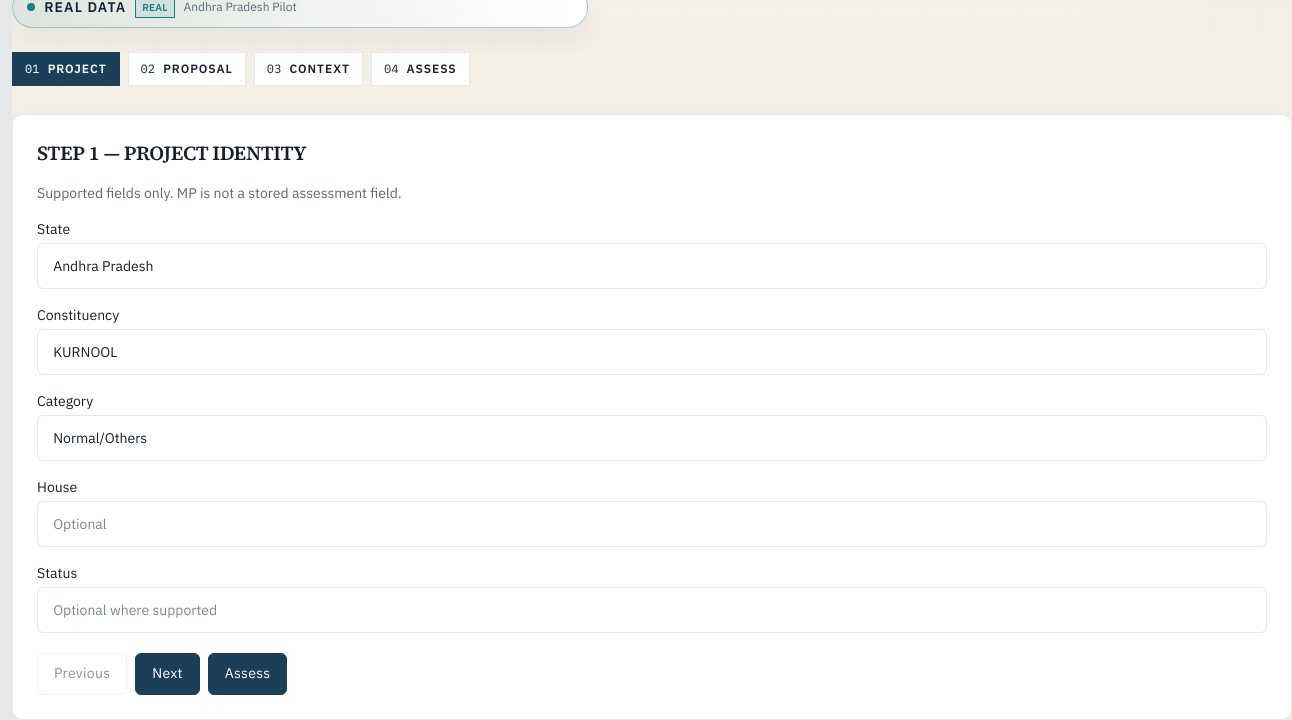
Test: Assess New Project page › submits the assessment form and shows ML plus frozen engine signals
This screenshot has width=1292, height=720.
(page scrolled)
Click the button "Assess": (248,674) [208,653,287,695]
(page scrolled)
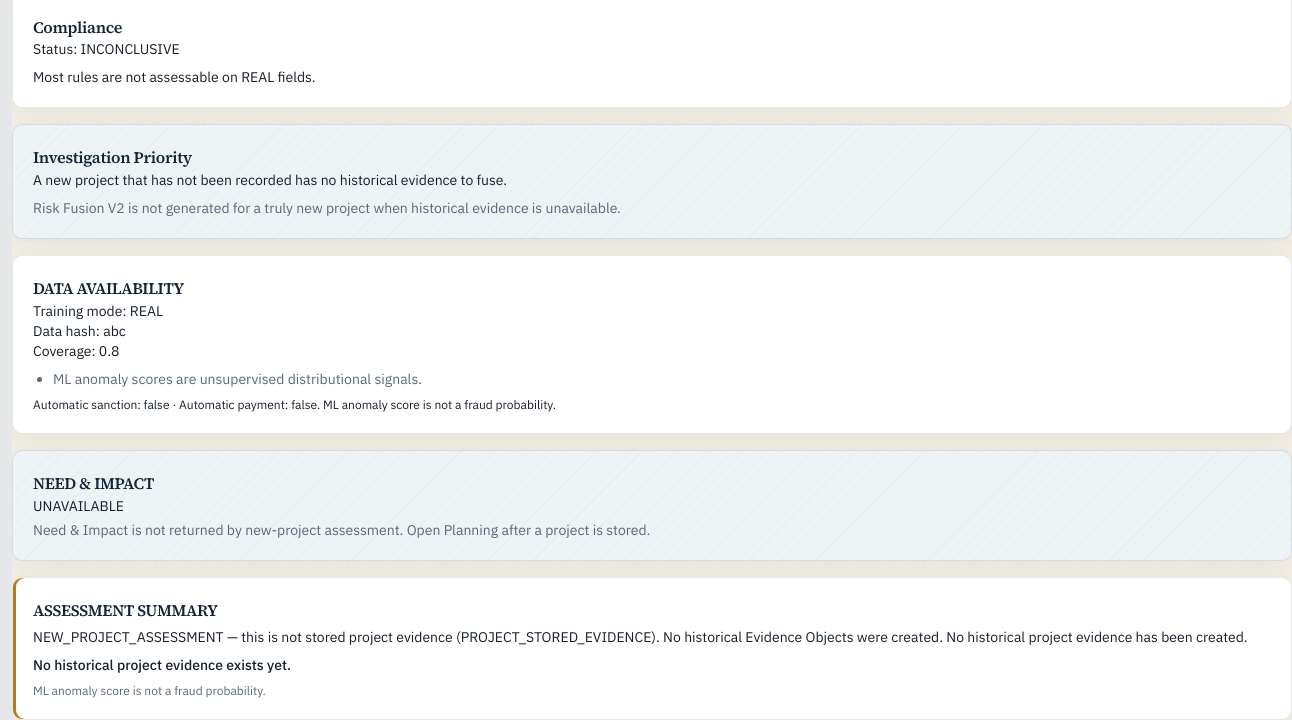
Now the heading "Compliance" is shown, box [33,16,122,38]
Now the text "no historical evidence to fuse" is shown, box [33,171,507,189]
Now the text "not stored project evidence" is shown, box [224,628,1248,646]
